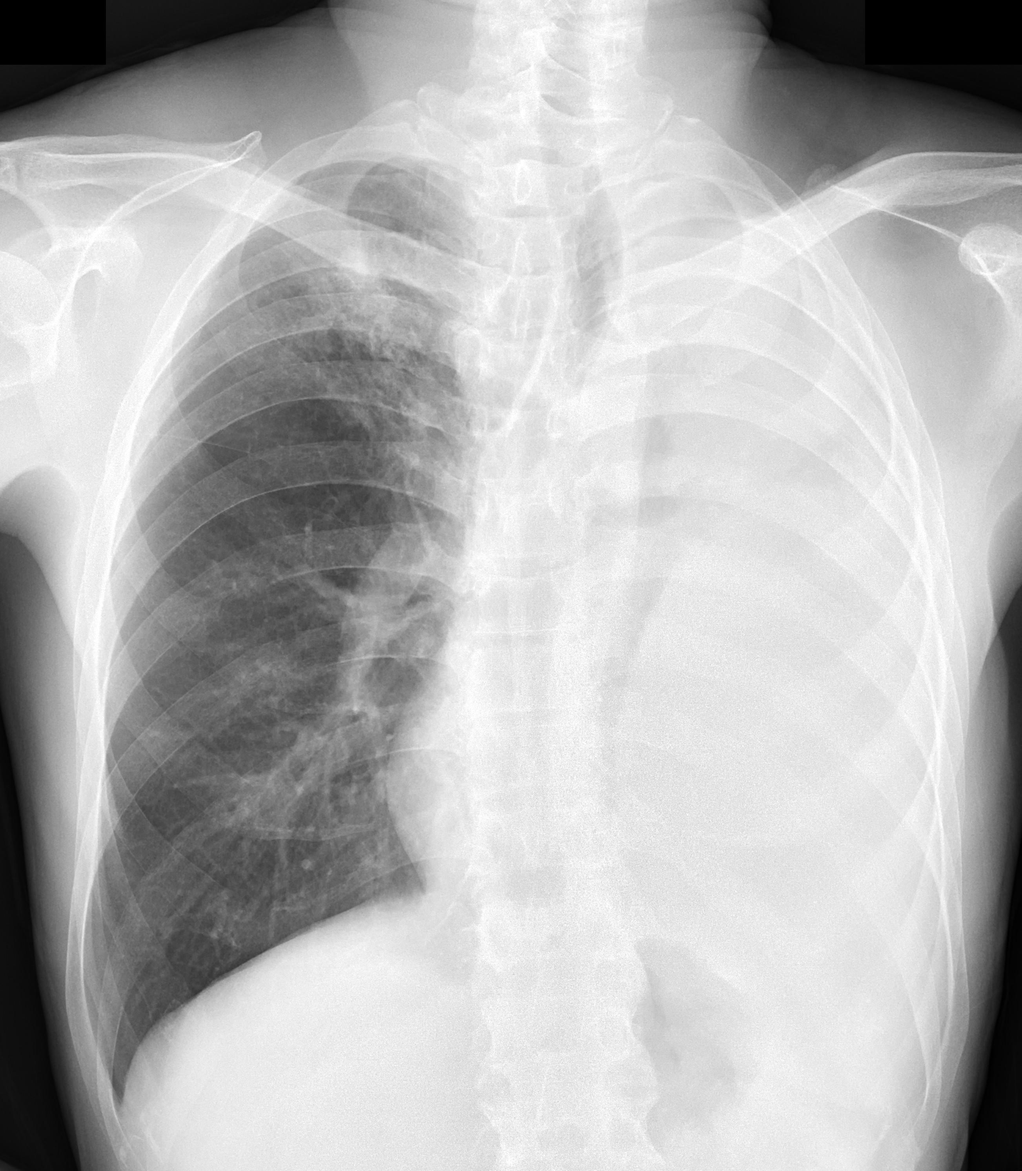Pulmonary fibrosis: (244, 217, 357, 343)
